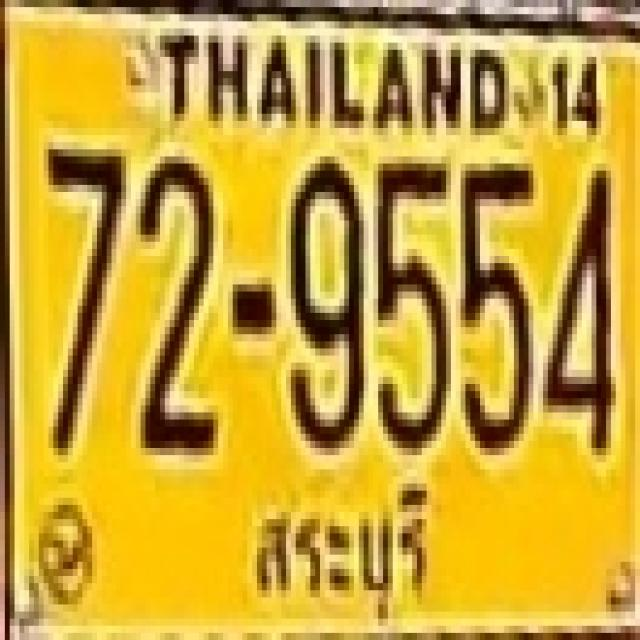0: (286, 156, 359, 448)
2: (133, 153, 211, 437), (136, 150, 208, 412)
4: (538, 164, 611, 448)
5: (373, 156, 446, 448), (456, 156, 528, 448)
7: (44, 142, 121, 441), (44, 142, 121, 334)
9: (286, 156, 359, 441)
SRI: (236, 477, 439, 636)
